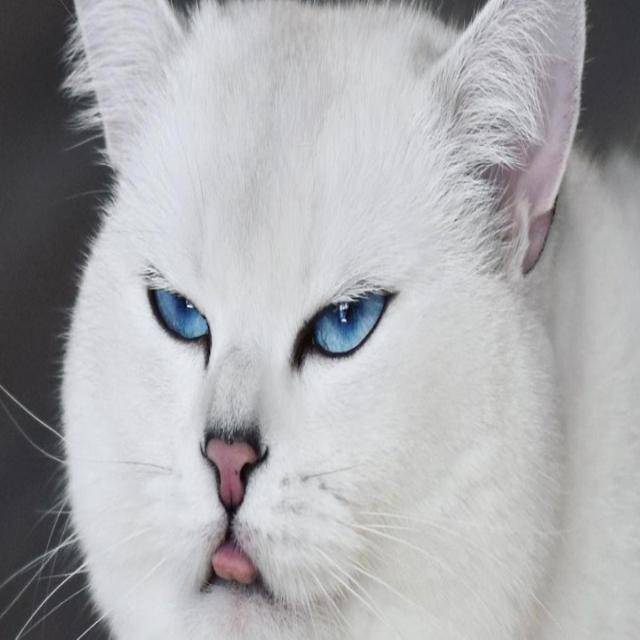Cat: (44, 2, 594, 640)
